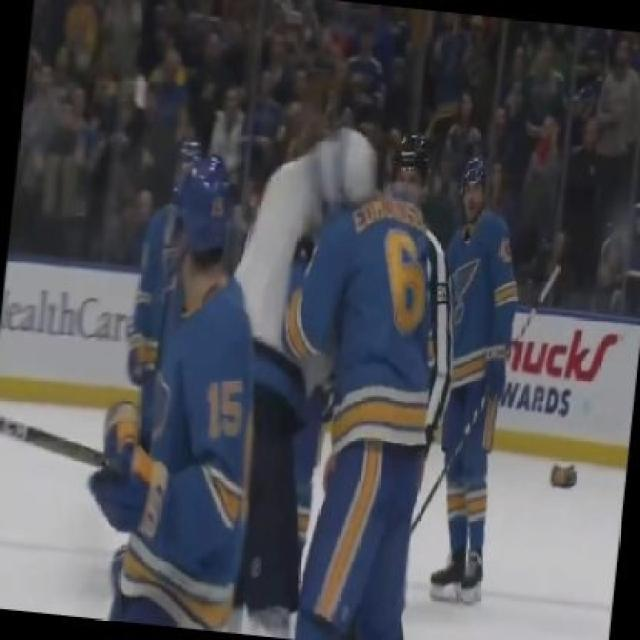fight: (228, 75, 452, 638)
non-fight: (426, 140, 529, 620)
